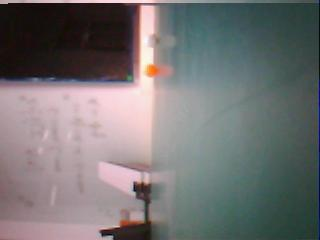oball: (143, 63, 158, 78)
